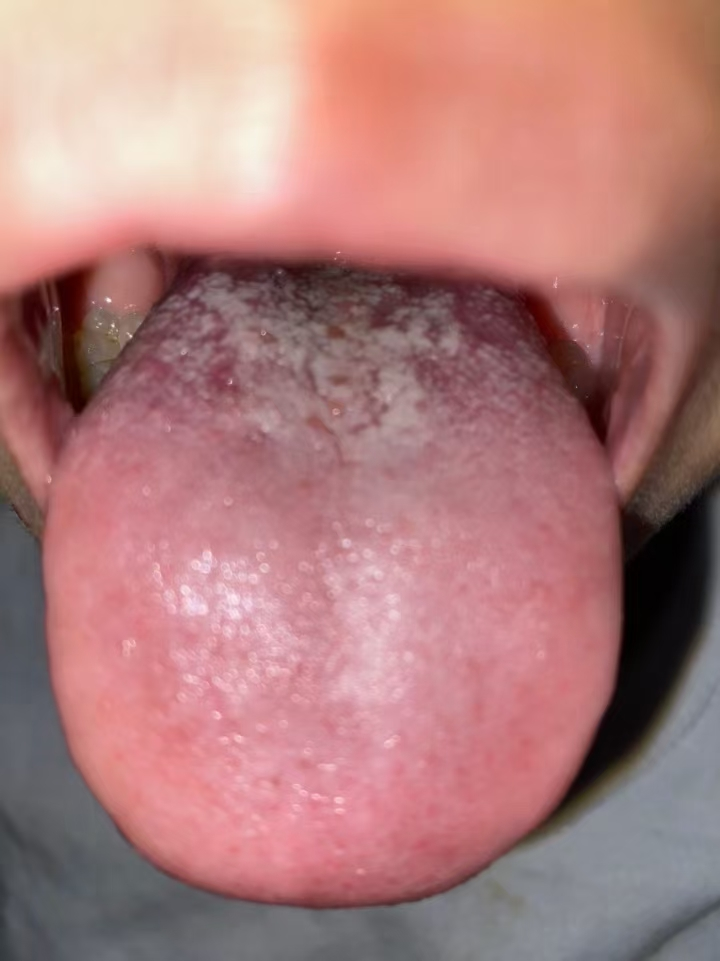baitaishe: (42, 264, 621, 908)
hongshe: (43, 264, 622, 908)
